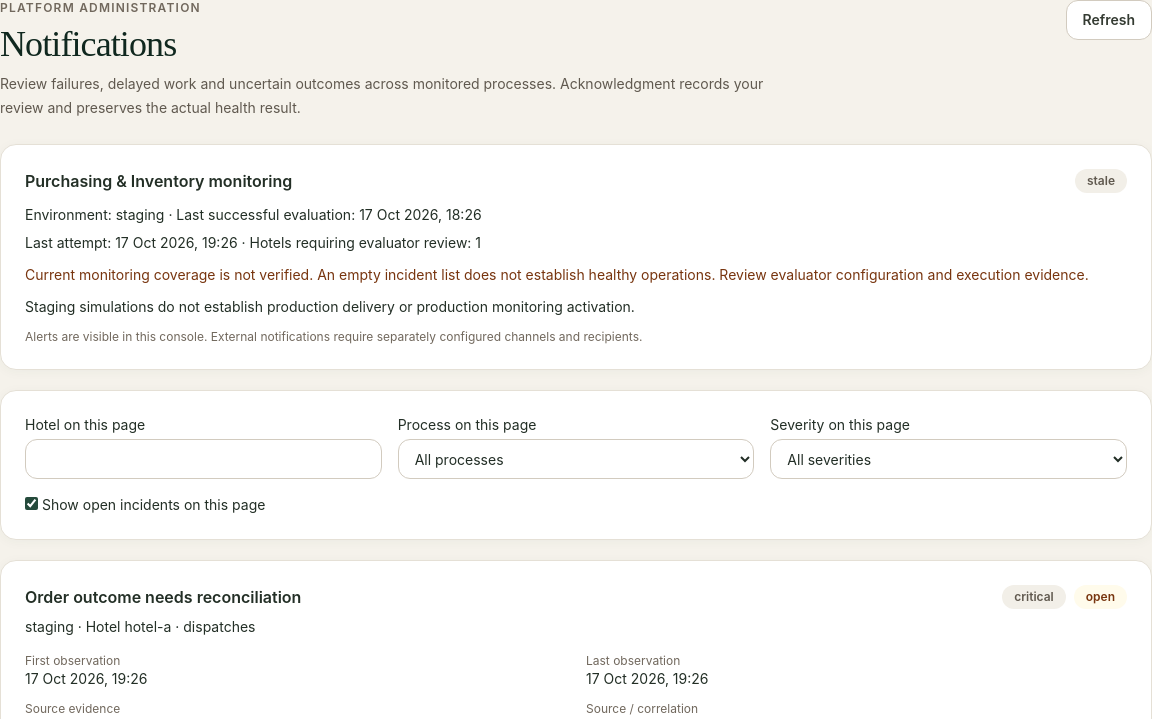
filters the visible page and retains explicit unknown coverage for empty incident results
Expected: the heading "Order outcome needs reconciliation" is shown, top-left (25, 585), bottom-right (301, 609)
Select "Warning" in the dropdown labelled "Severity on this page" at (949, 459), box top-left (770, 439), bottom-right (1127, 479)
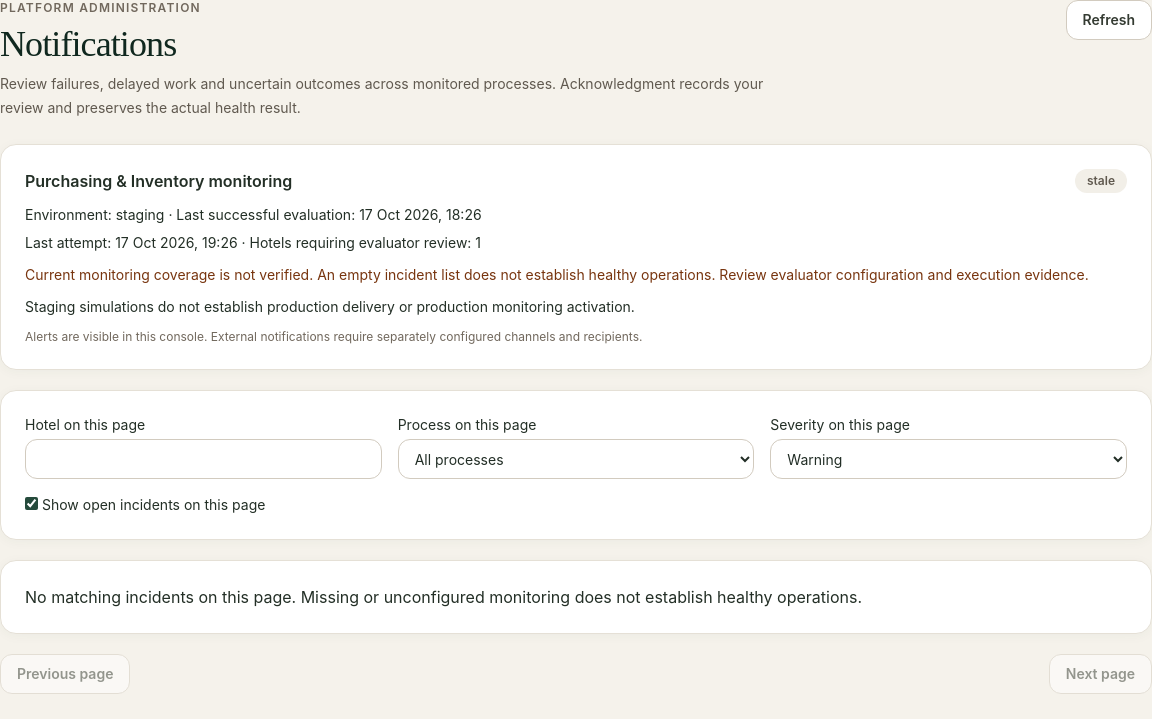
Expected: the text "Current monitoring coverage is not verified" is shown, top-left (25, 266), bottom-right (1089, 283)
Result: the heading "Order outcome needs reconciliation" is gone
Result: the text "No matching incidents on this page" is shown at top-left (25, 587), bottom-right (862, 607)
